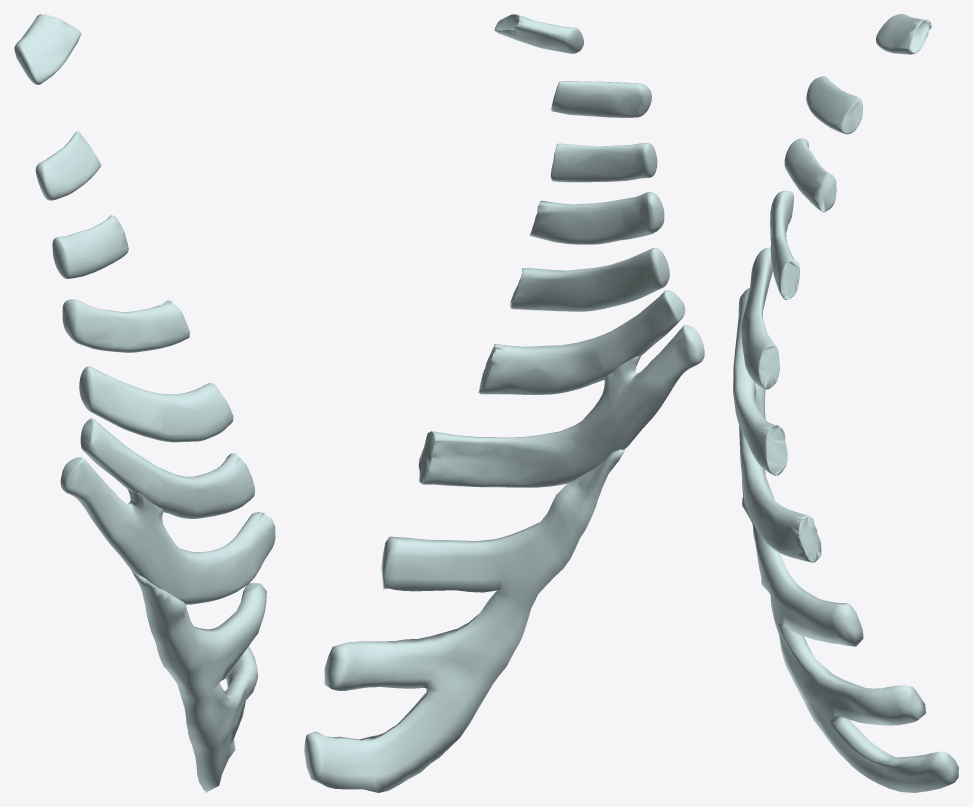
File: Costal_cartilages.l_Generated_Mesh_From_X3D.108.glb
3 views of the same model, side by side, from view 1: azimuth 30°, elevation 25°; view 2: azimuth 150°, elevation 25°; view 3: azimuth 270°, elevation 25° (orthographic). The views are drawn at different scales.
Visible parts, largest first — view 1: Costal_cartilages.l_Generated_Mesh_From_X3D.108; view 2: Costal_cartilages.l_Generated_Mesh_From_X3D.108; view 3: Costal_cartilages.l_Generated_Mesh_From_X3D.108.
Part boxes in pixels (x1,y1,x2,y2): Costal_cartilages.l_Generated_Mesh_From_X3D.108: (14,14,275,792); Costal_cartilages.l_Generated_Mesh_From_X3D.108: (304,14,704,792); Costal_cartilages.l_Generated_Mesh_From_X3D.108: (733,14,958,792).
Size of the model in its own units: 0.1222 by 0.3362 by 0.0974.
